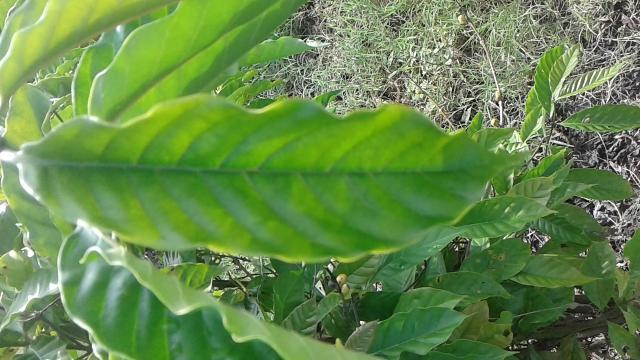healthy: (15, 94, 518, 258)
